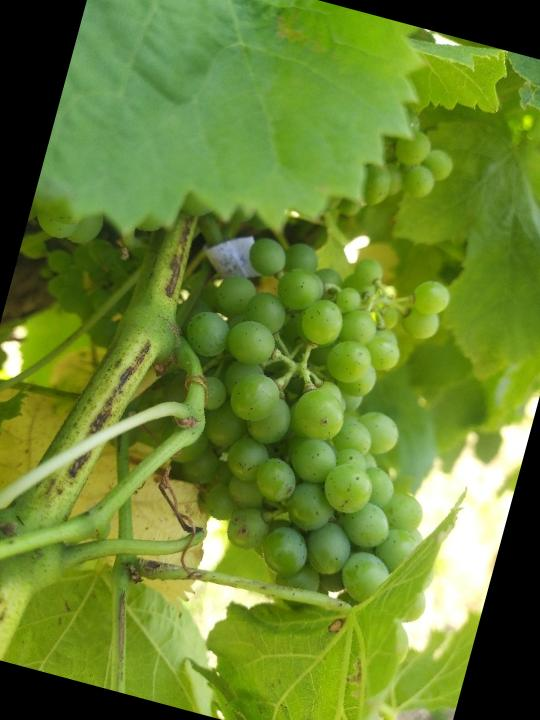grape: (90, 212, 508, 665)
